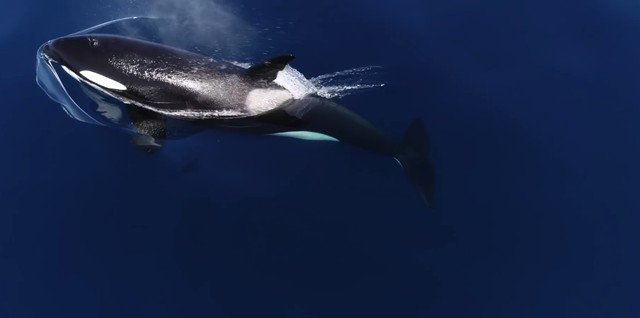whale: (33, 24, 451, 216)
